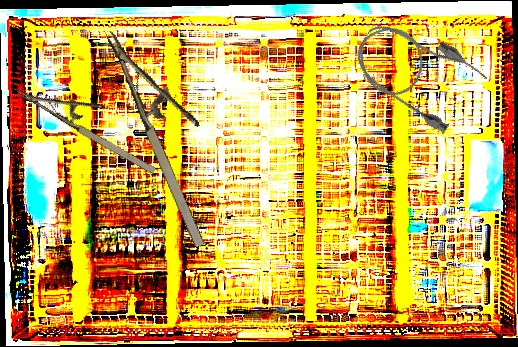Cannula: (343, 4, 492, 139)
Needle Holder: (105, 12, 240, 251), (15, 62, 170, 179)
